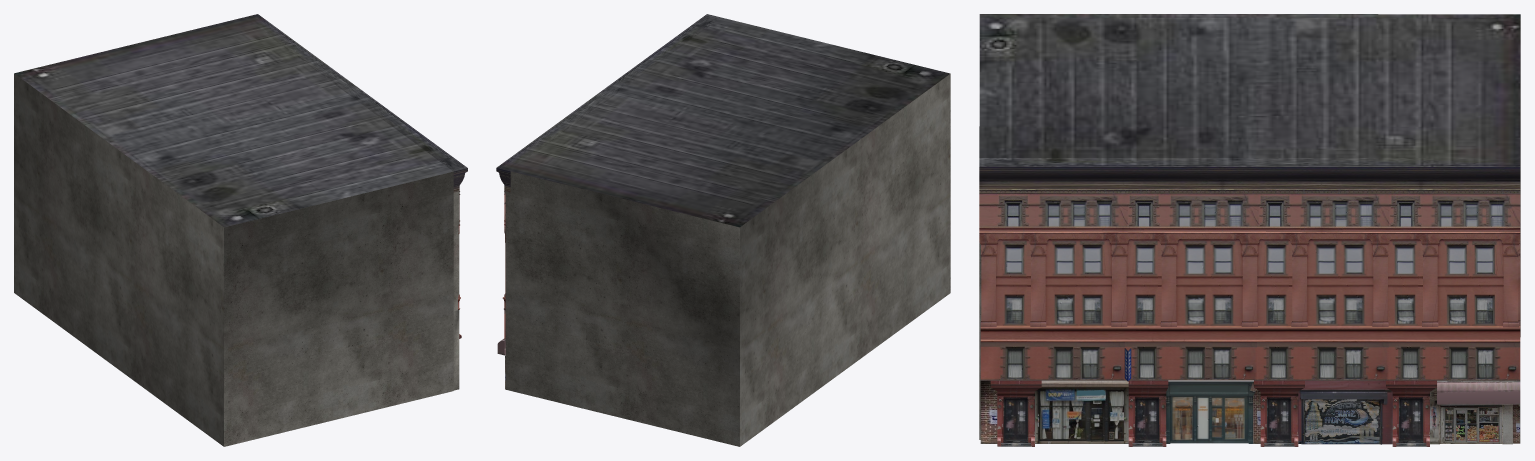
File: Build_Red.fbx
3 renders of one model, left to right at view 1: azimuth 30°, elevation 25°; view 2: azimuth 150°, elevation 25°; view 3: azimuth 270°, elevation 25°, orthographic. The views are drawn at different scales.
Parts seen in each view (by area): view 1: Build_Red; view 2: Build_Red; view 3: Build_Red.
Boxes of the visible parts, x1=… form: Build_Red: x1=14, y1=14, x2=467, y2=446; Build_Red: x1=496, y1=14, x2=950, y2=446; Build_Red: x1=979, y1=14, x2=1520, y2=446.
Bounding box in the file's own units: 834 × 717 × 1246.
2 materials, 2 textured.
